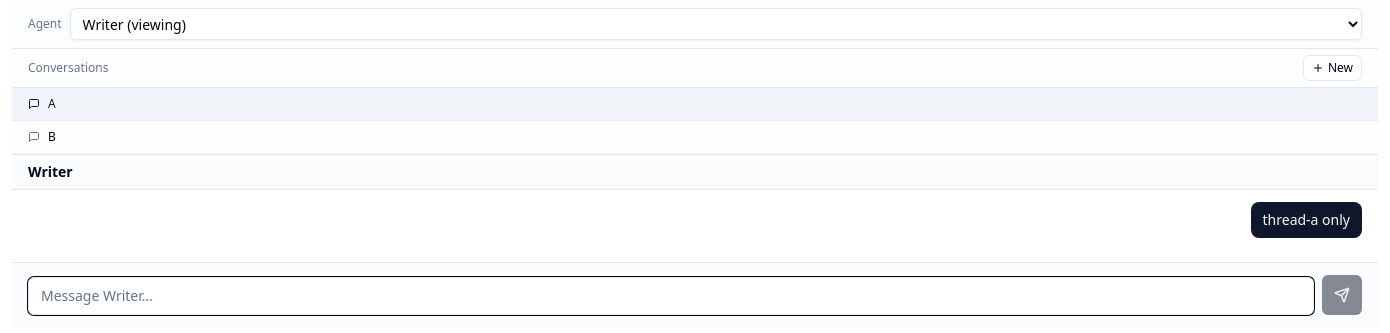
FloatingChatPanel — Sub-AC 4 of AC 5: thread-history hydration › switches threads and reloads the new thread's history
The image size is (1390, 333).
Expected: the list item "thread-a only" is shown, [1250,202,1362,238]
Click the button "B" at coordinates (34, 137), box [12,121,1378,154]
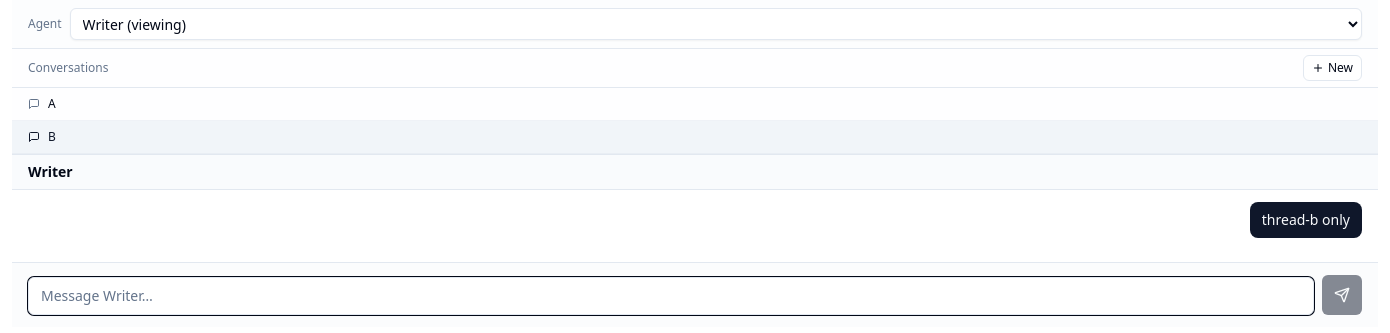
Now the list item "thread-b only" is shown, box [1250,202,1362,238]
